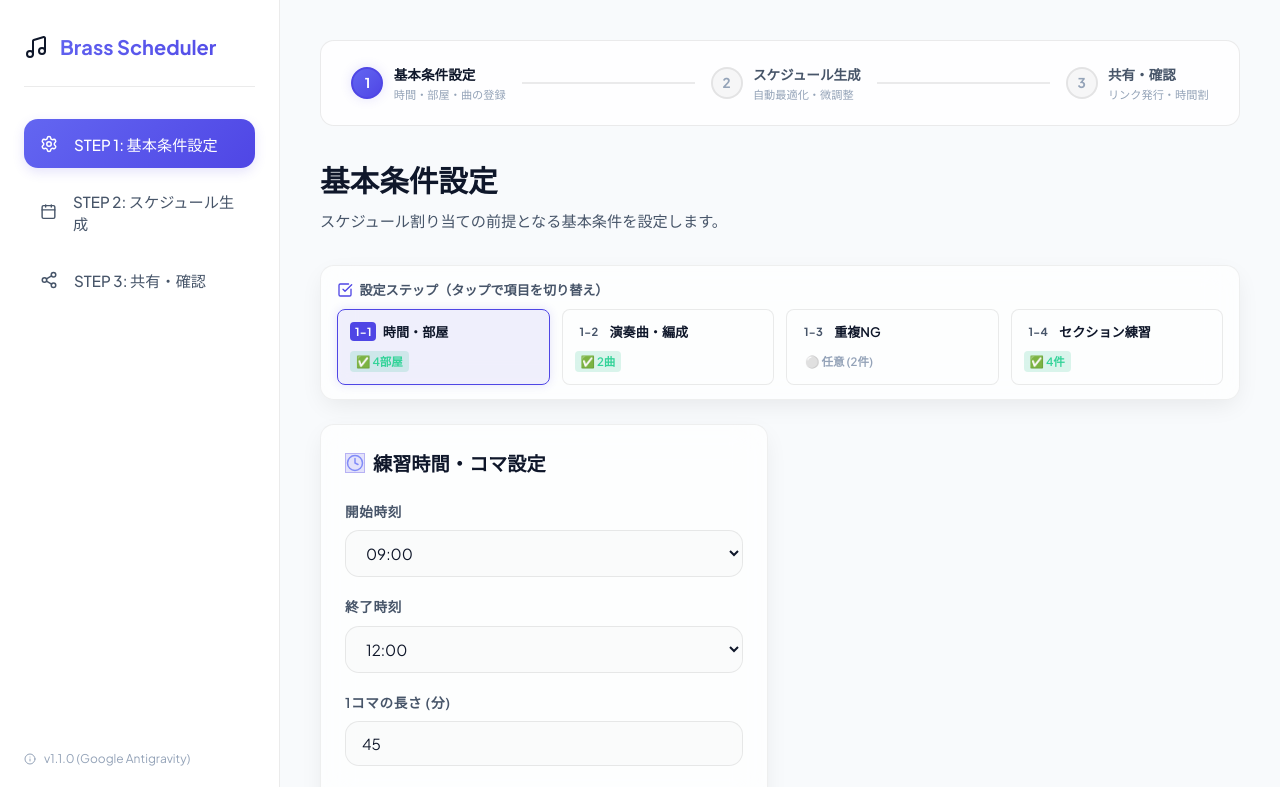
it: App Component › navigates to STEP 2 and STEP 3 when conditions are valid
STEP 2 タブをクリック
Click the text "スケジュール生成".
click(807, 74)  # box x1=753 y1=64 x2=861 y2=84
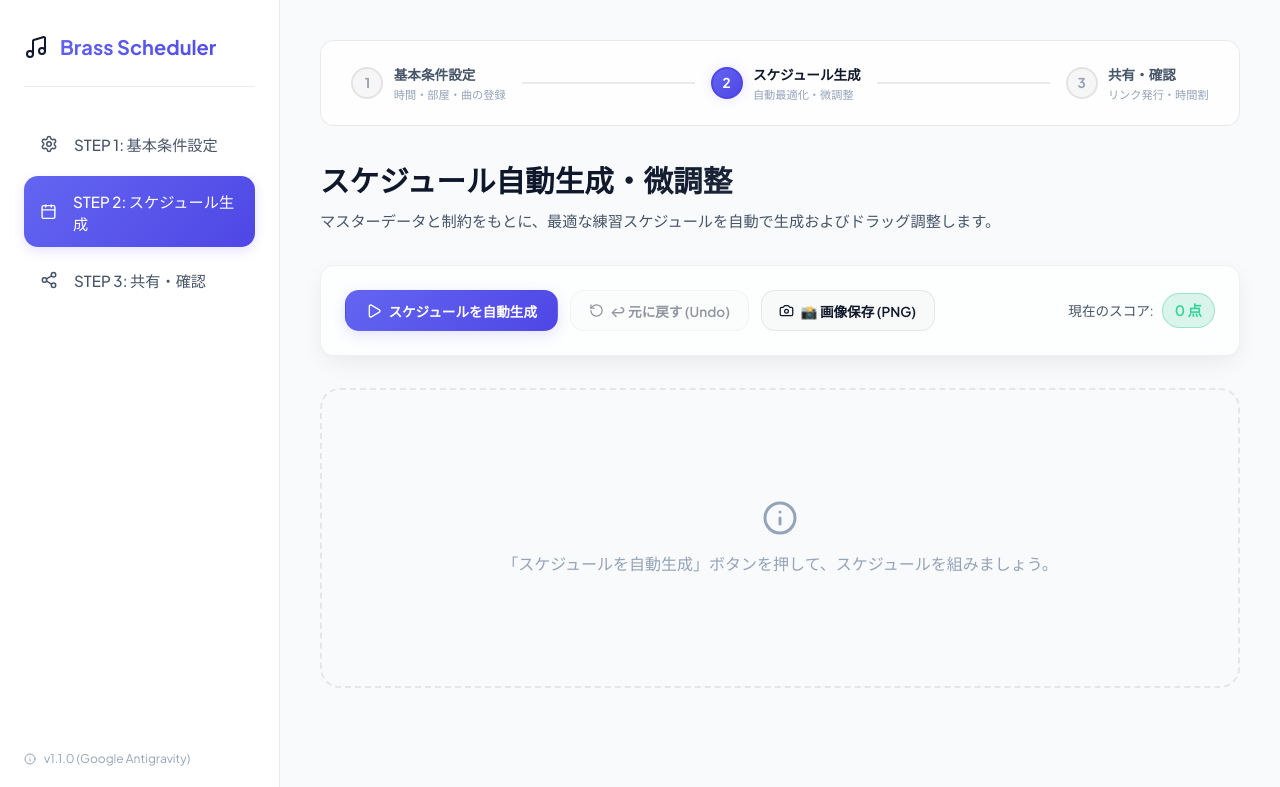
expect the heading "スケジュール自動生成・微調整" is shown: met, box x1=320 y1=158 x2=1240 y2=202
STEP 3 タブをクリック
Click the text "共有・確認".
click(1142, 75)  # box x1=1108 y1=66 x2=1176 y2=83
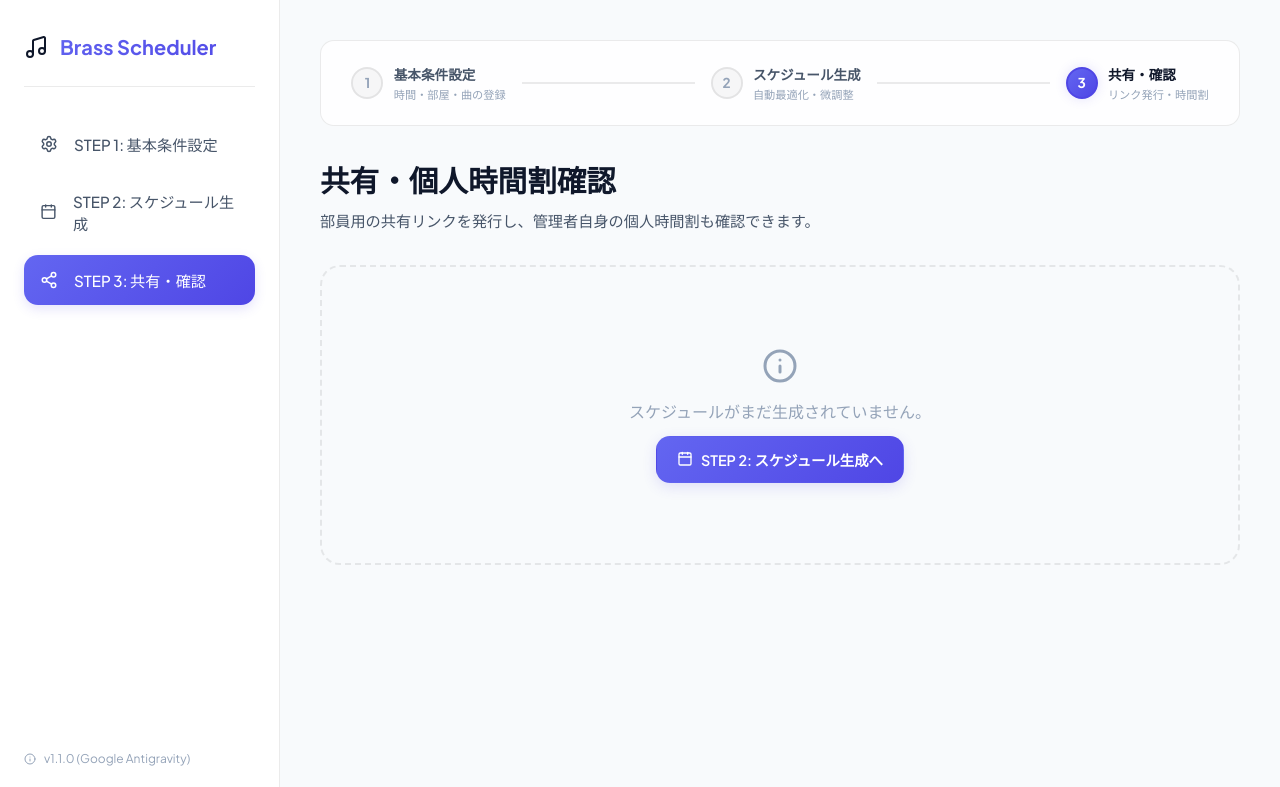
expect the heading "共有・個人時間割確認" is shown: met, box x1=320 y1=158 x2=1240 y2=202
